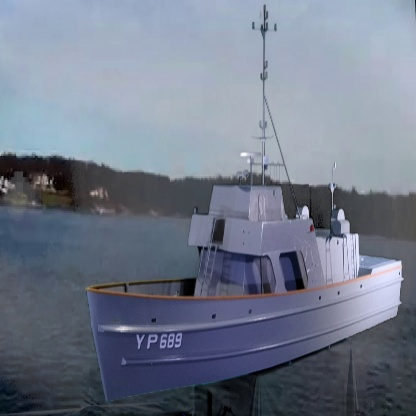YP689: (84, 9, 405, 407)
